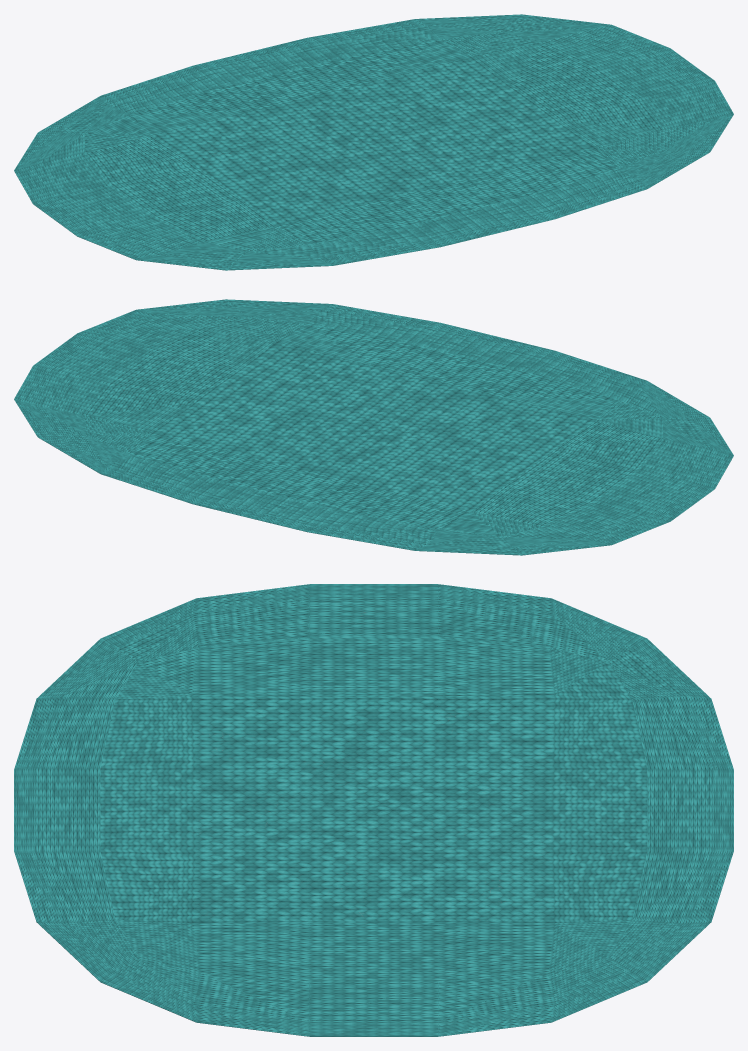
3 renders of one model, top to bottom at view 1: azimuth 30°, elevation 25°; view 2: azimuth 150°, elevation 25°; view 3: azimuth 270°, elevation 25°, orthographic. The views are drawn at different scales.
Parts seen in each view (by area): view 1: 카펫; view 2: 카펫; view 3: 카펫.
Boxes of the visible parts, bbox=[...] form: 카펫: bbox=[14, 14, 733, 270]; 카펫: bbox=[14, 299, 733, 555]; 카펫: bbox=[14, 584, 733, 1036].
Size of the model in its own units: 381 by 0.8328 by 256.
1 material, 1 textured.
